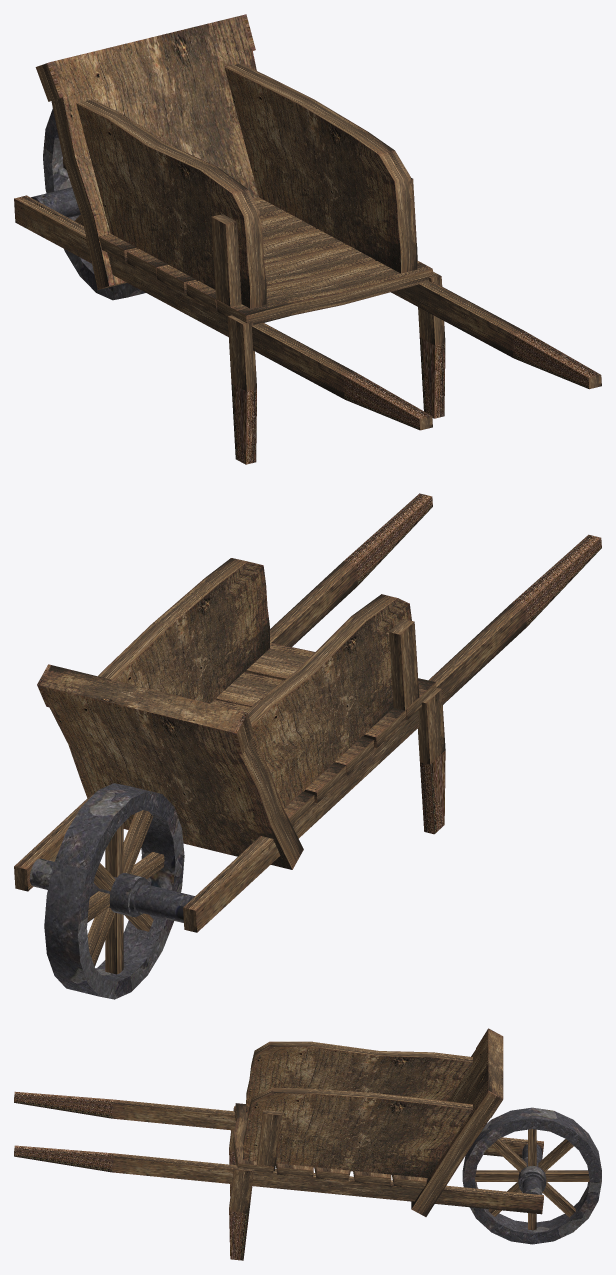
Rendered from woodencart.fbx.
The picture shows the model from 3 angles, top to bottom: view 1: azimuth 30°, elevation 25°; view 2: azimuth 150°, elevation 25°; view 3: azimuth 270°, elevation 25°; orthographic projection. The views are drawn at different scales.
Parts seen in each view (by area): view 1: wooden_part, metal_wheel; view 2: wooden_part, metal_wheel; view 3: wooden_part, metal_wheel.
Boxes of the visible parts, box(x1,y1,x2,y2) form: wooden_part: box(14, 14, 601, 464); metal_wheel: box(31, 108, 145, 300); wooden_part: box(14, 493, 601, 974); metal_wheel: box(29, 783, 194, 999); wooden_part: box(14, 1028, 589, 1260); metal_wheel: box(462, 1107, 601, 1244).
Bounding box in the file's own units: 837 × 1102 × 3274.
2 materials, 2 textured.
